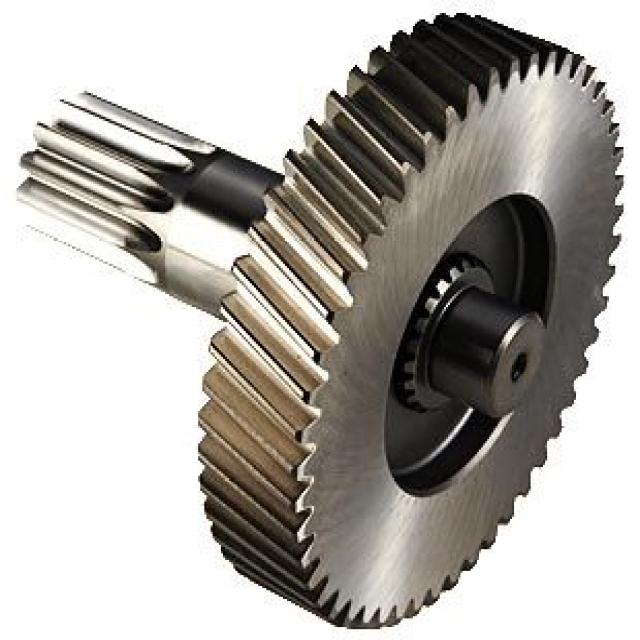Gear: (196, 12, 630, 632), (13, 83, 210, 285)
